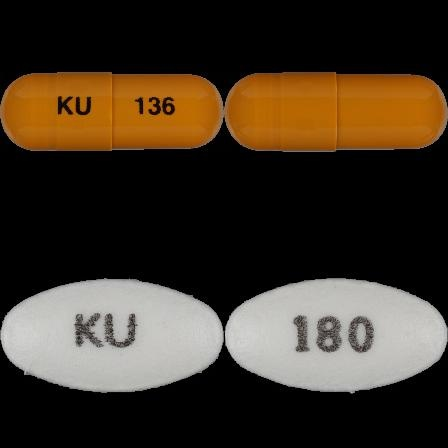62175-136: (0, 0, 224, 224)
